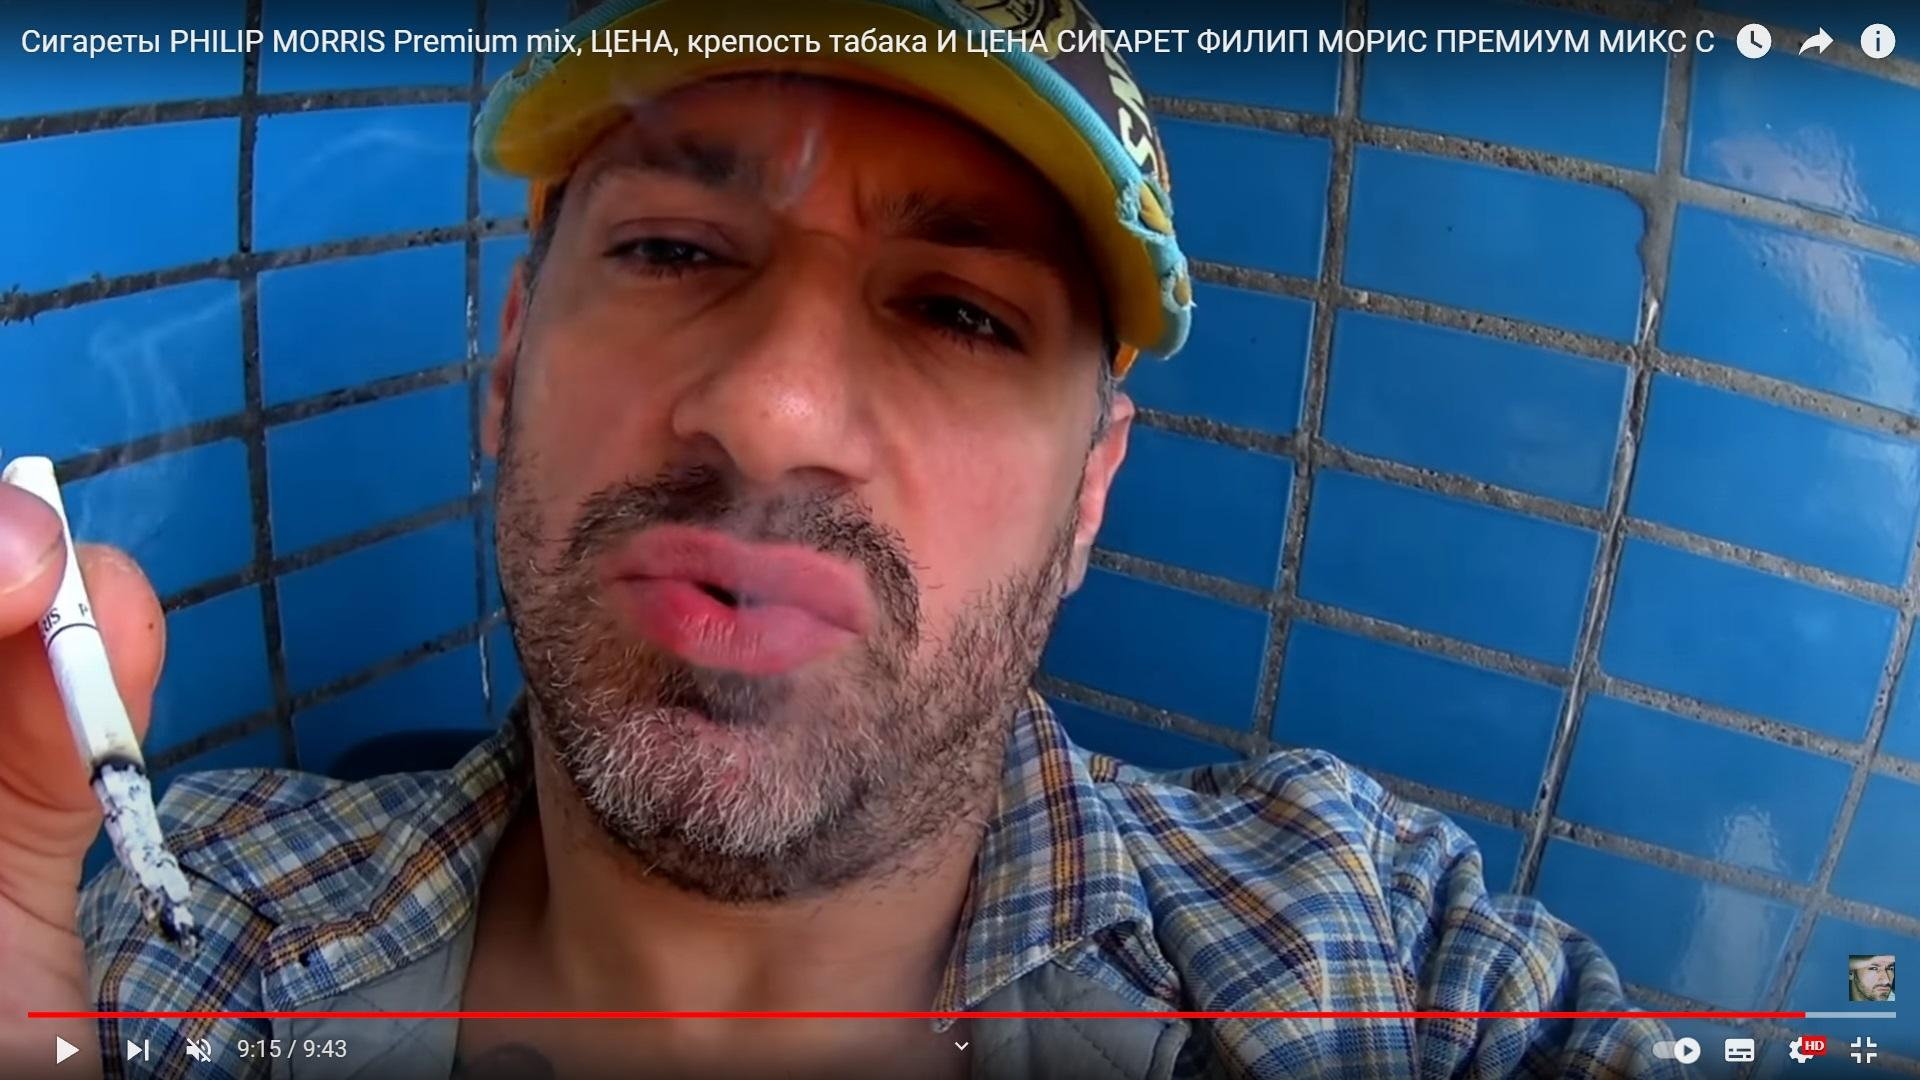cigarette: (0, 458, 195, 948)
